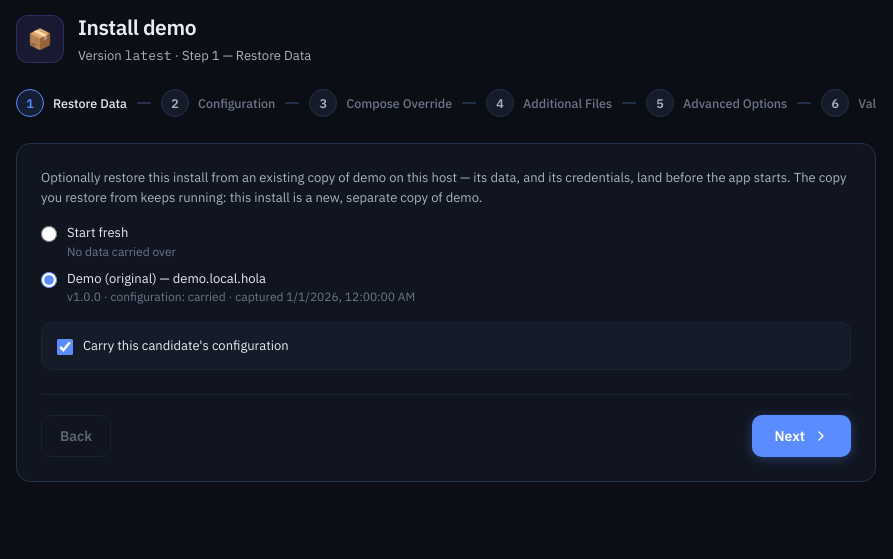
Test case: InstallWizard restore-on-install (spec 007) › scenario 46: choosing a candidate carries its configuration into ordinary appEnv rows
Expected: the text "Demo (original) — demo.local.hola" is shown, [67,270,266,286]
Click the button "Next" at (802, 436), box [752,414,851,456]
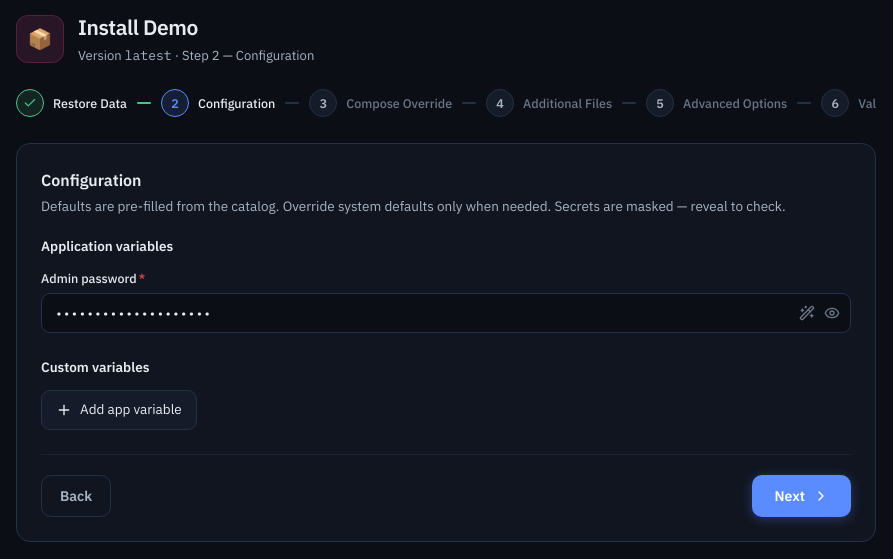
Expected: the password field labelled "Admin password*" holds "carried-secret-value", [41,293,851,333]
